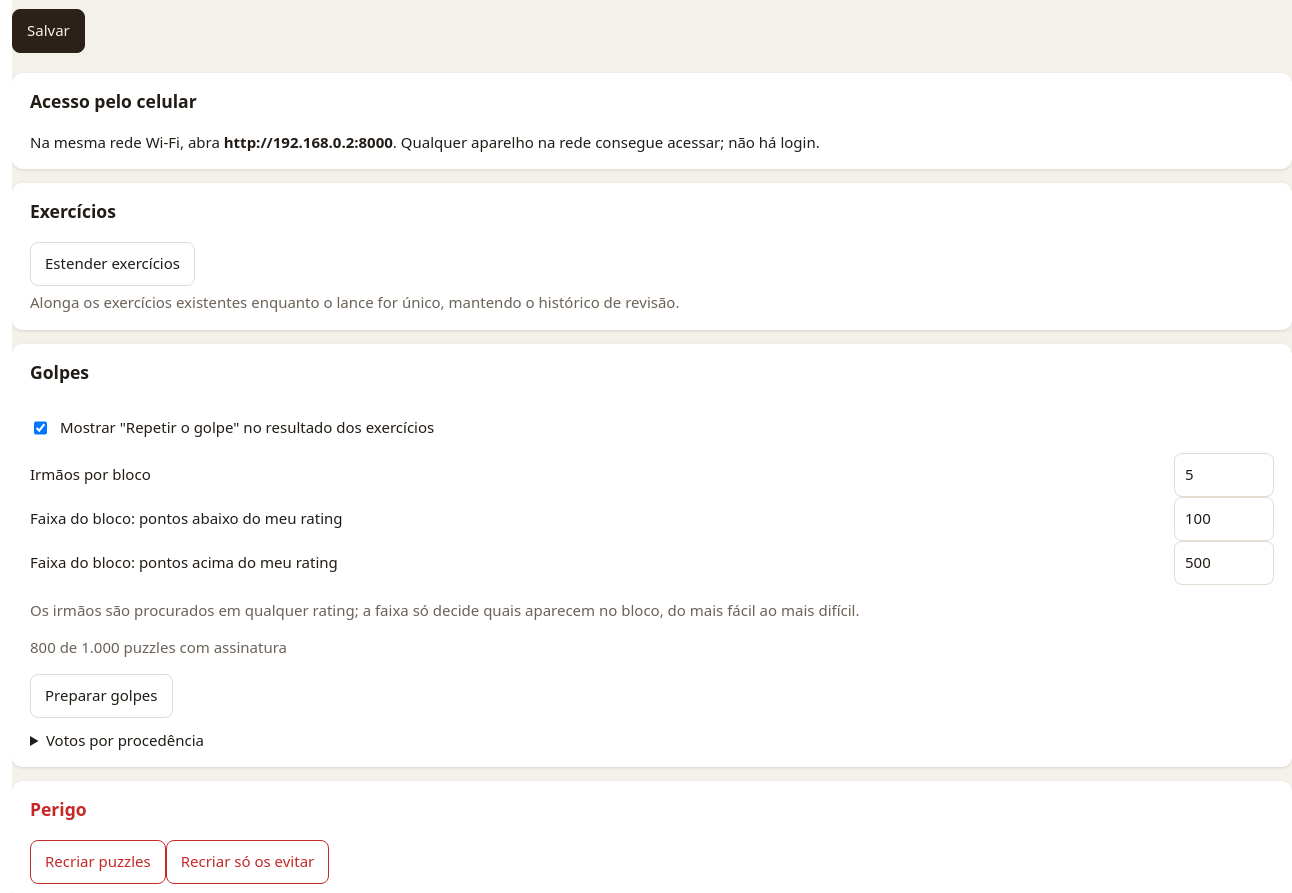
Test case: sem votos ainda, o placar mostra a mensagem de vazio
(page scrolled)
Step 1. Click the heading "Votos por procedência" → {"x": 125, "y": 740}, box [46, 730, 204, 750]
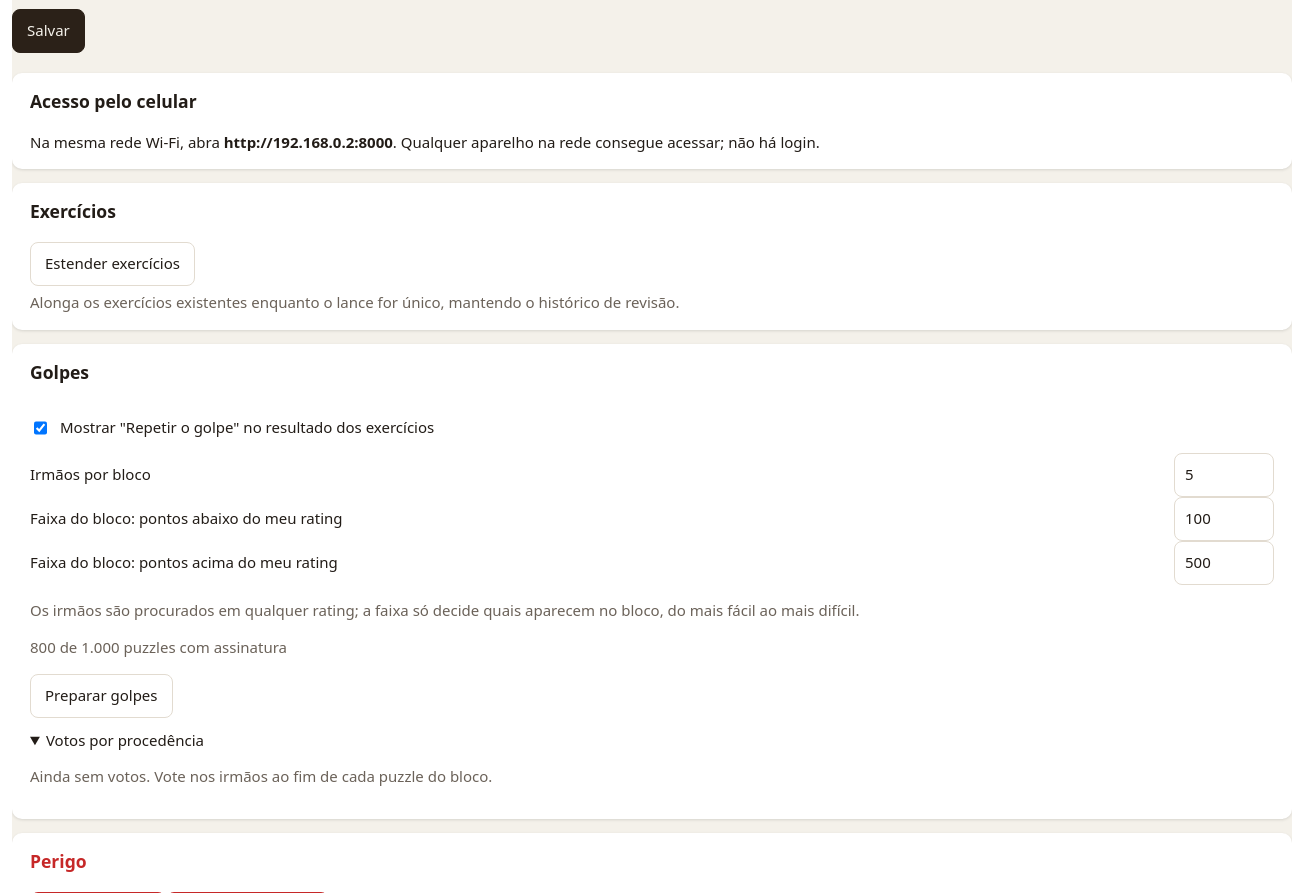
Result: the text "Ainda sem votos. Vote nos irmãos ao fim de cada puzzle do bloco." is shown at [30, 766, 492, 786]
